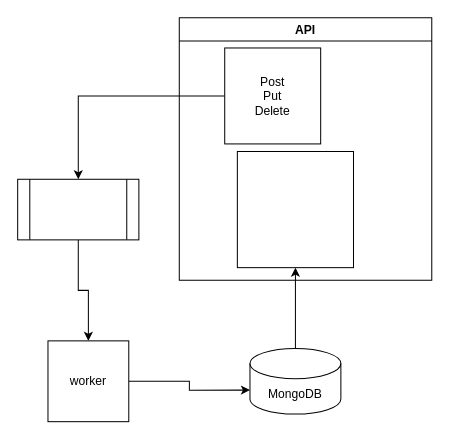
The diagram is 449 pixels wide and 439 high, and some of its shapes have lost their labels. The shapes that lost their labels are listed below. From the top down, each one's centre as x and y in pixels, then its label:
At (x=78, y=209): "Queue".
At (x=295, y=209): "Get /:id /:id/history".
